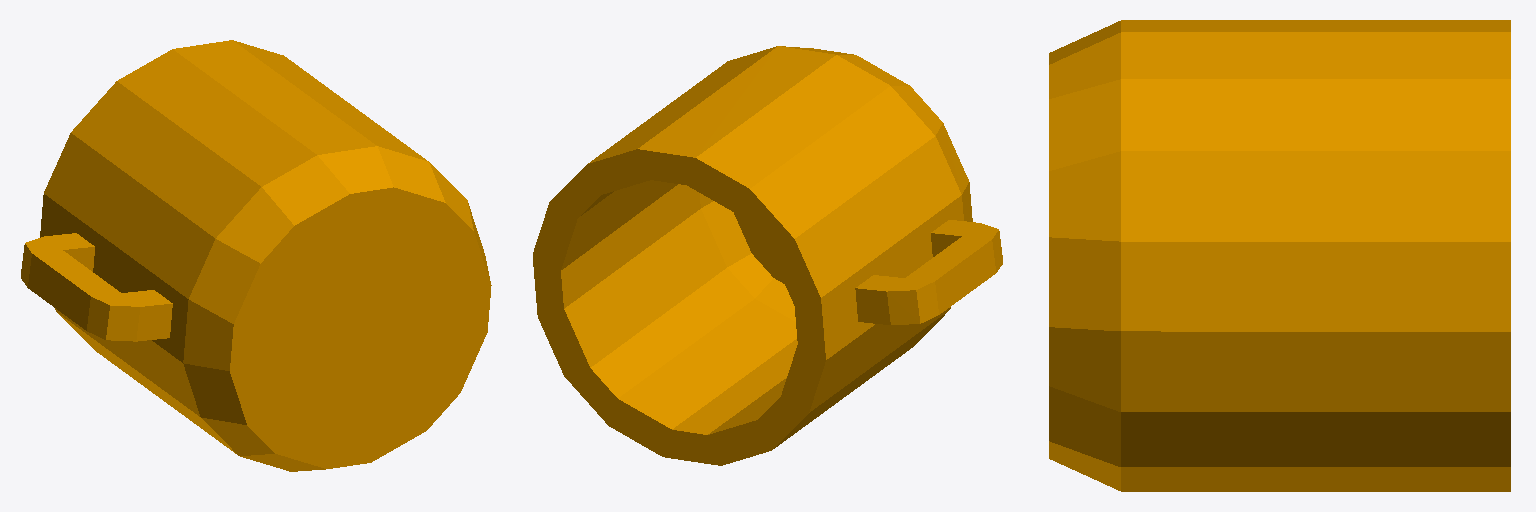
The robot description file, URDF, robot "Mug":
<robot name="Mug">
    <link name="mug">
        <visual>
            <geometry>
                <mesh filename="meshes/mug.obj"/>
            </geometry>
        </visual>
        <collision>
            <geometry>
                <mesh filename="meshes/mug.obj"/>
            </geometry>
        </collision>
    </link>
</robot>

--- Facts derived from the render (not from the file) ---
3 views of the same robot in one strip: view 1: azimuth 30°, elevation 25°; view 2: azimuth 150°, elevation 25°; view 3: azimuth 270°, elevation 25° (orthographic).
Model Mug with 1 links and 0 joints (none), rooted at mug, posed every joint at zero.
Visible links, largest first — view 1: mug; view 2: mug; view 3: mug.
Link boxes in pixels (x1,y1,x2,y2): mug: [21, 40, 491, 471]; mug: [533, 46, 1002, 465]; mug: [1049, 20, 1510, 491].
Size in the robot's own frame: 0.0176 by 0.0143 by 0.0146 metres.
Meshes: 1 distinct files referenced, 1 mesh visuals loaded (1 OBJ).